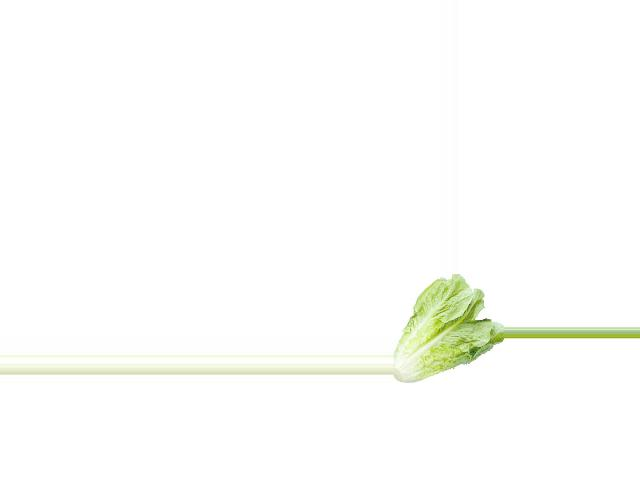lettuce: (394, 272, 501, 383)
